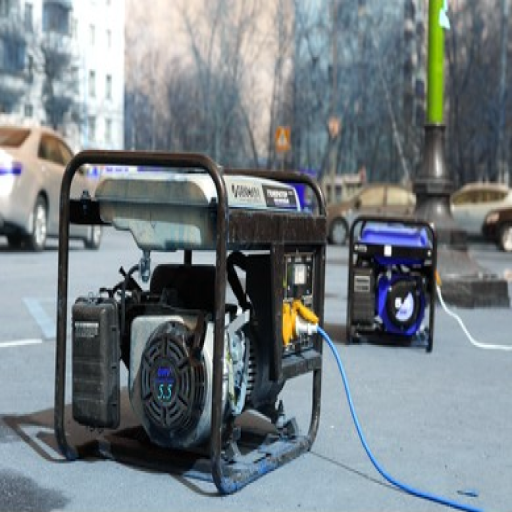portable_generator: (55, 150, 327, 493), (347, 216, 437, 352)
